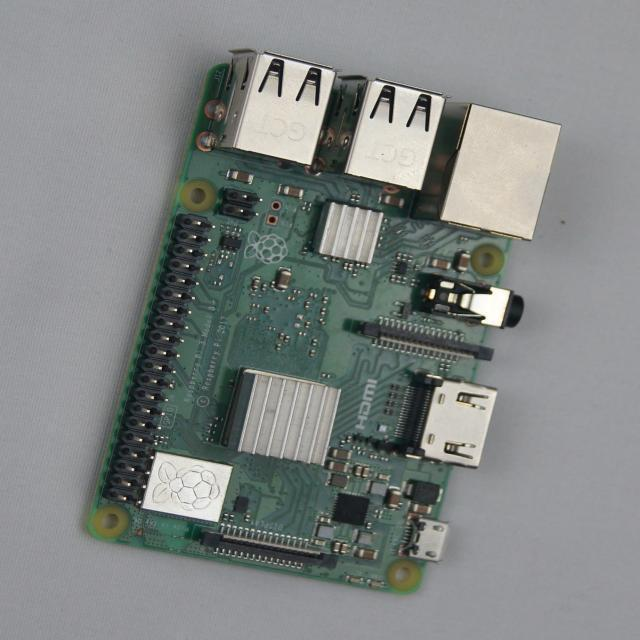Raspberry Pi 3 B-: (87, 52, 560, 594)
